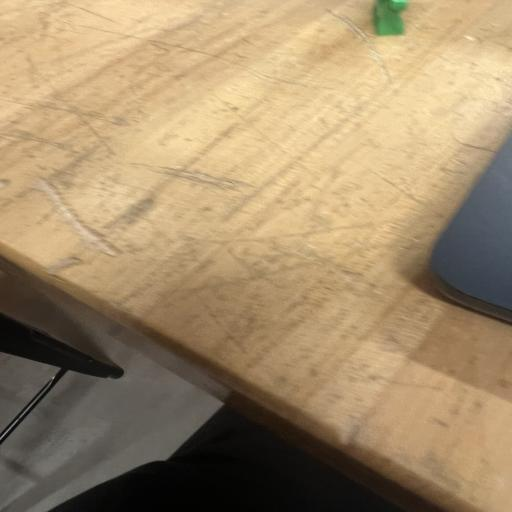green-lego-minifigure-detector: (373, 0, 408, 36)
